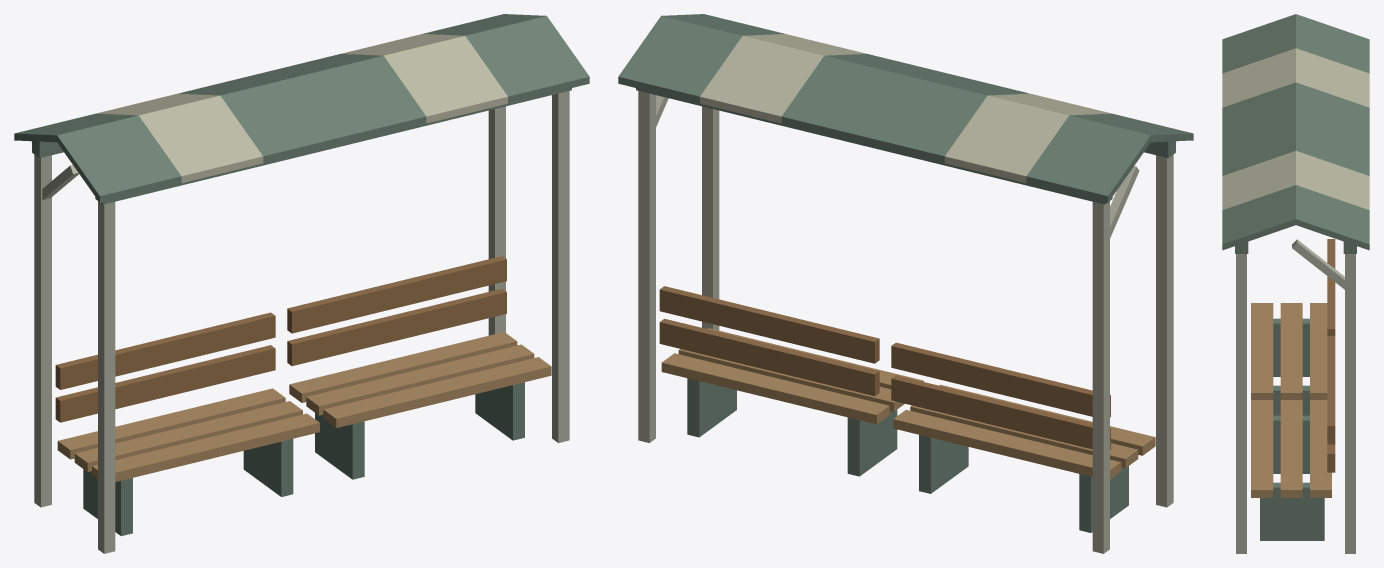
The model's file is alc_dock_shelter.glb.
3 views of the same model, side by side, from view 1: azimuth 30°, elevation 25°; view 2: azimuth 150°, elevation 25°; view 3: azimuth 270°, elevation 25° (orthographic). The views are drawn at different scales.
Parts seen in each view (by area): view 1: alc_dock_shelter; view 2: alc_dock_shelter; view 3: alc_dock_shelter.
Boxes of the visible parts, <box> form: alc_dock_shelter: <box>14,14,589,553</box>; alc_dock_shelter: <box>618,14,1193,553</box>; alc_dock_shelter: <box>1222,14,1369,553</box>.
Bounding box in the file's own units: 3.3 × 2.55 × 1.
